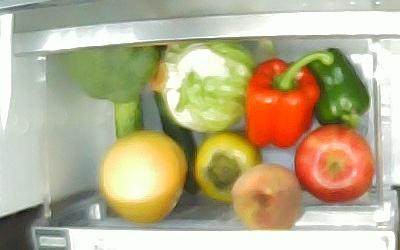apple: (295, 124, 375, 201)
broccoli: (65, 44, 160, 137)
cucumber: (149, 46, 201, 198)
grapefruit: (100, 130, 187, 223)
lettuce: (150, 45, 253, 134)
paprika: (244, 48, 333, 149), (304, 47, 371, 127)
peach: (231, 162, 302, 230)
persimmon: (194, 134, 259, 202)
